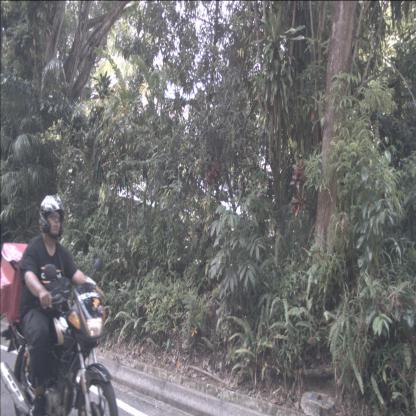vehicle-motorcycle: (0, 194, 119, 416)
